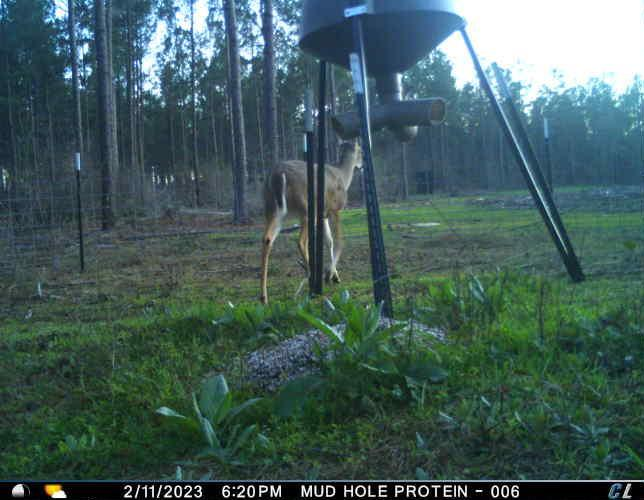Deer: (256, 131, 364, 306)
